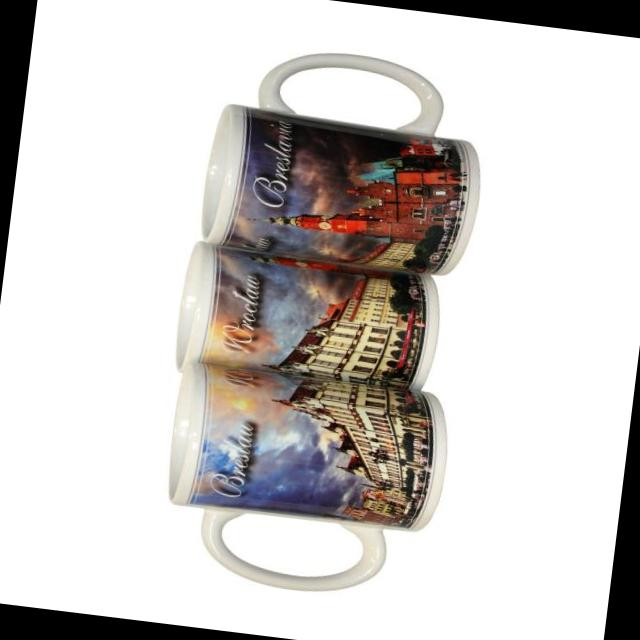Coffee Mug: (156, 362, 450, 602), (196, 37, 488, 276), (170, 239, 442, 401)
